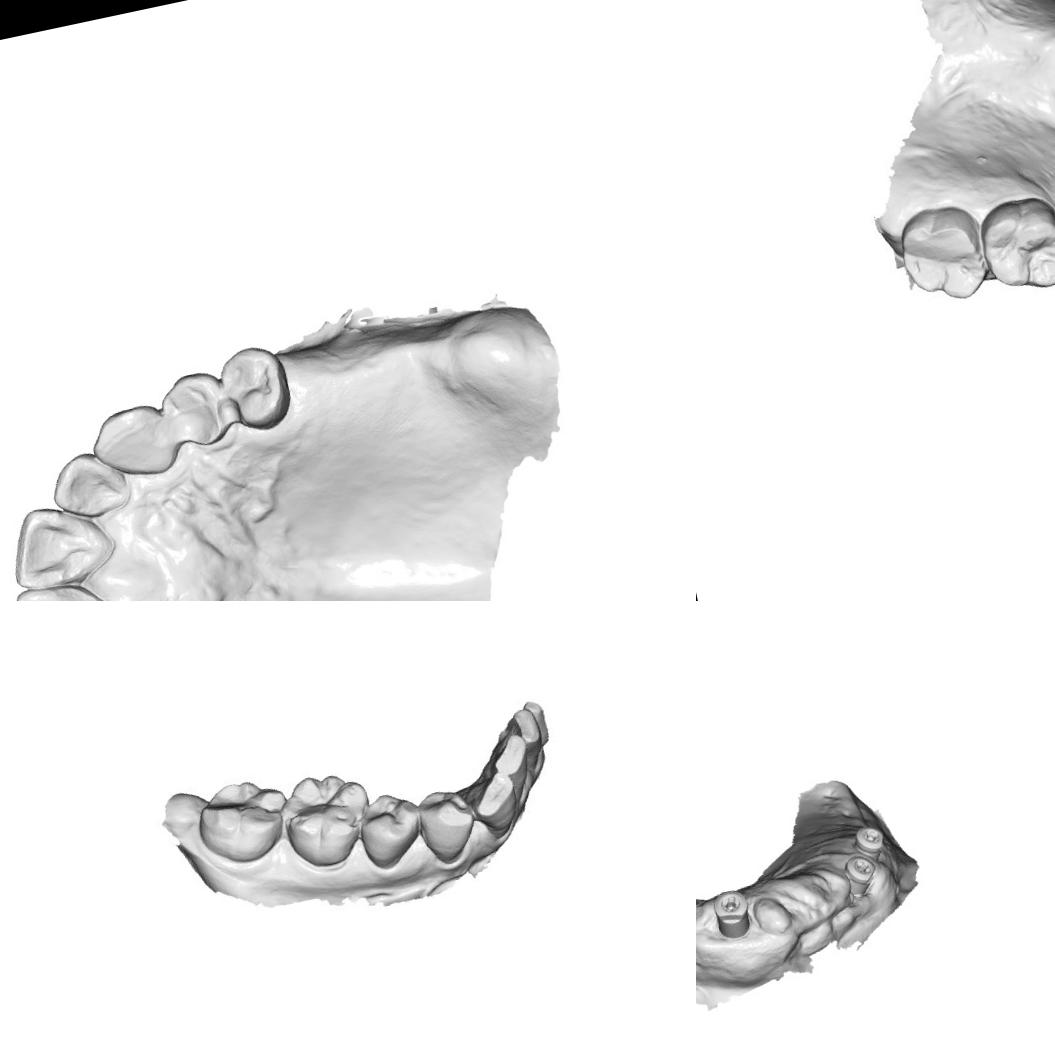canine: (82, 394, 180, 490)
implant_plus: (708, 886, 756, 944), (838, 850, 882, 901), (847, 821, 891, 870)
incisor: (0, 492, 120, 599), (45, 444, 135, 524), (465, 770, 531, 842), (483, 732, 539, 793), (8, 572, 122, 601)
molar: (894, 196, 992, 305), (282, 766, 376, 866), (976, 189, 1055, 299), (194, 776, 290, 864)
premolar: (212, 338, 298, 438), (151, 362, 239, 456), (357, 790, 427, 867), (417, 786, 480, 863)
